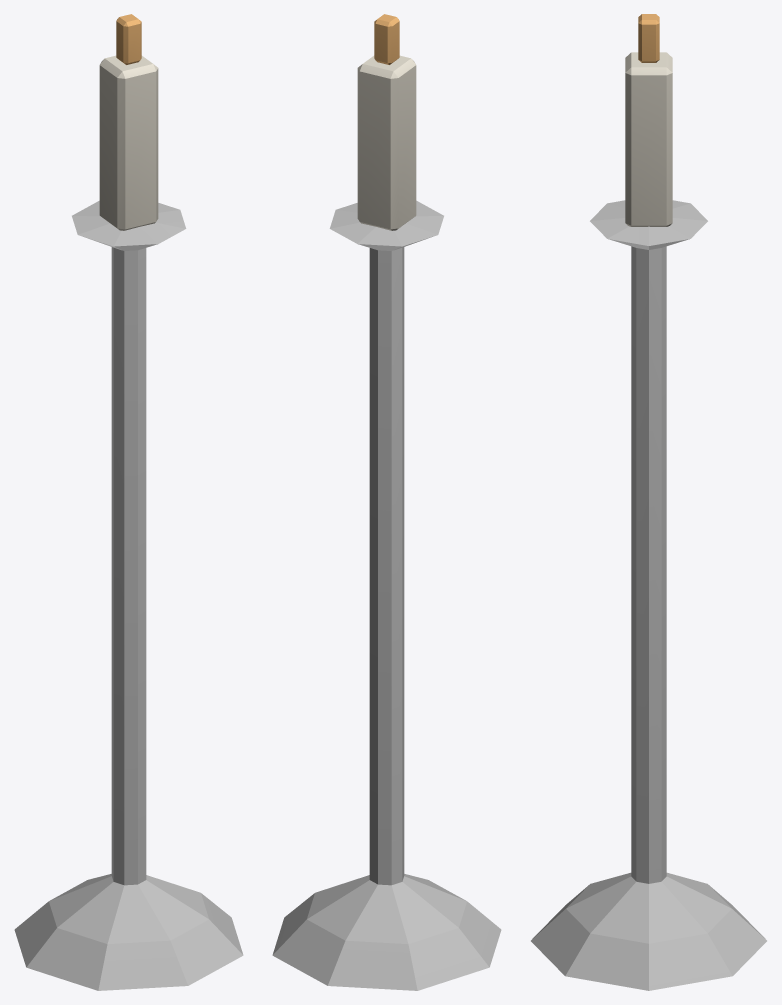
The model's file is candle_stand_low.glb.
3 renders of one model, left to right at view 1: azimuth 30°, elevation 25°; view 2: azimuth 150°, elevation 25°; view 3: azimuth 270°, elevation 25°, orthographic.
Visible parts, largest first — view 1: candle; view 2: candle; view 3: candle.
Part boxes in pixels (x1,y1,x2,y2): candle: (14, 14, 243, 990); candle: (272, 14, 501, 990); candle: (531, 14, 766, 990).
Bounding box in the file's own units: 0.4 × 1.72 × 0.4.
